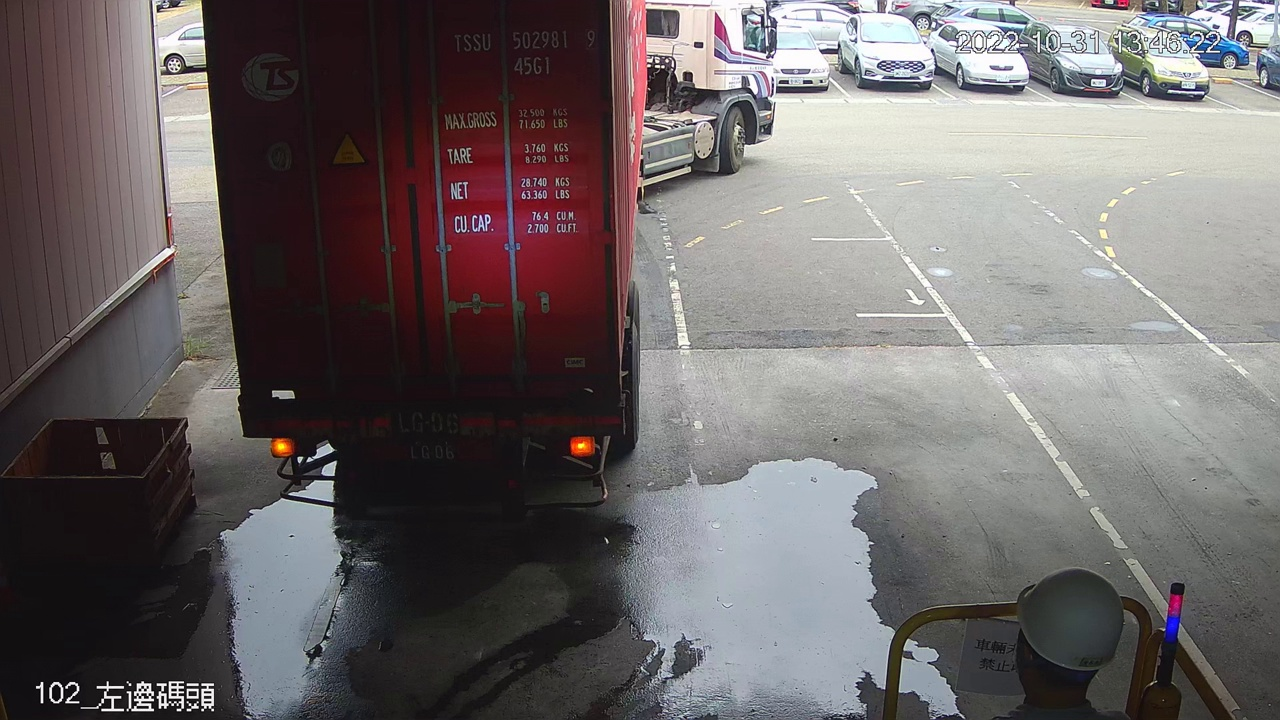container: (444, 24, 601, 80)
